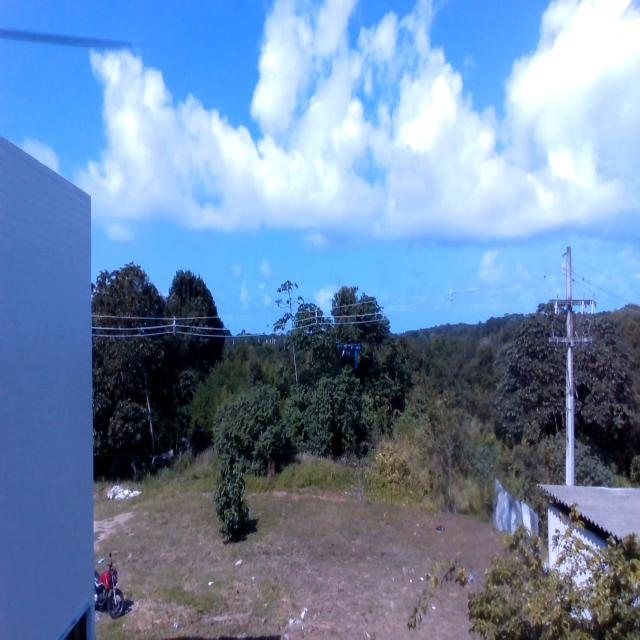-uav-: (339, 330, 364, 368)
